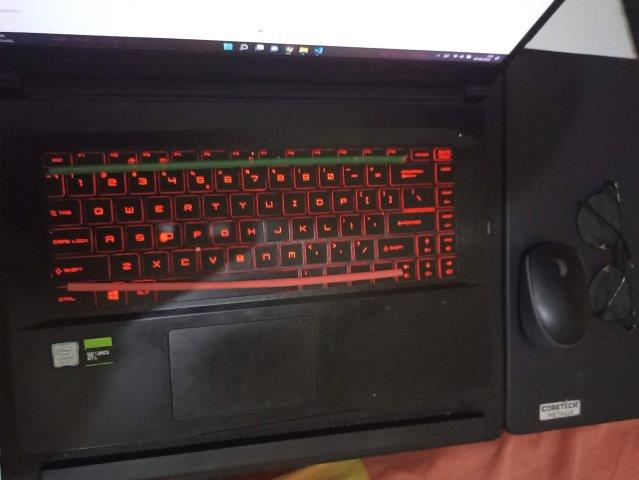sedotan: (67, 269, 403, 291), (49, 156, 403, 174)
